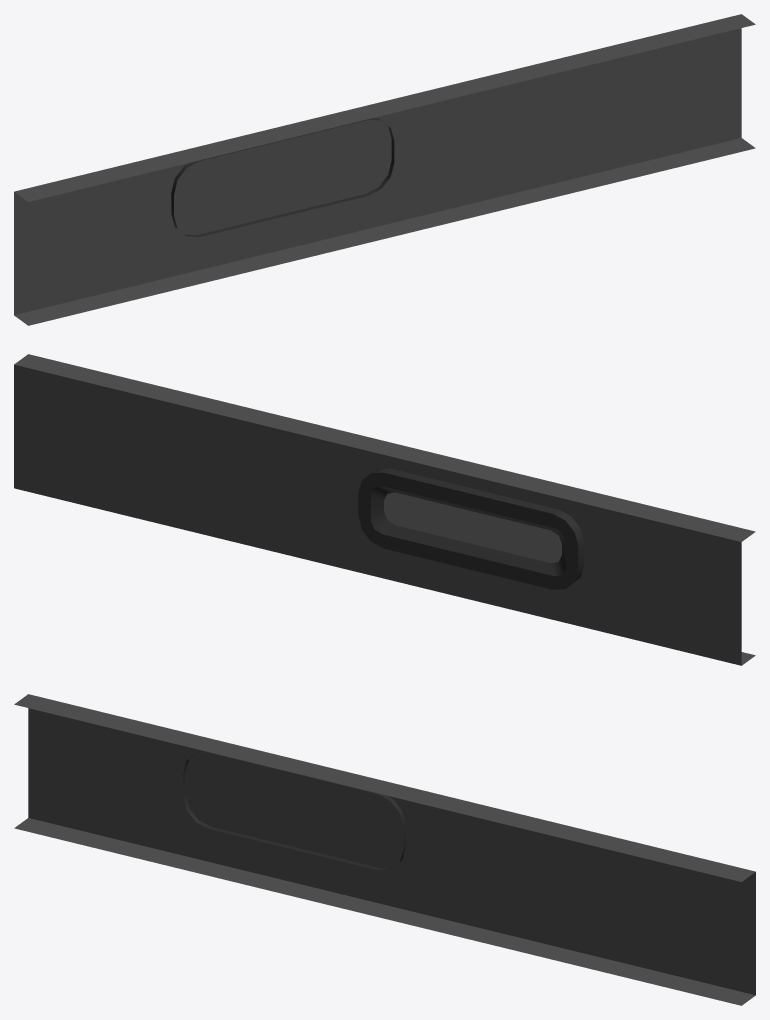
Rendered from SM_wall_front_027.fbx.
The picture shows the model from 3 angles, top to bottom: view 1: azimuth 30°, elevation 25°; view 2: azimuth 150°, elevation 25°; view 3: azimuth 330°, elevation 25°; orthographic projection.
Parts seen in each view (by area): view 1: SM_wall_front_027; view 2: SM_wall_front_027; view 3: SM_wall_front_027.
Boxes of the visible parts, box(x1,y1,x2,y2) form: SM_wall_front_027: box(14, 14, 755, 325); SM_wall_front_027: box(14, 354, 755, 665); SM_wall_front_027: box(14, 694, 755, 1005).
Bounding box in the file's own units: 300 × 48.76 × 14.38.
Materials: 2 (2 with a texture image).
